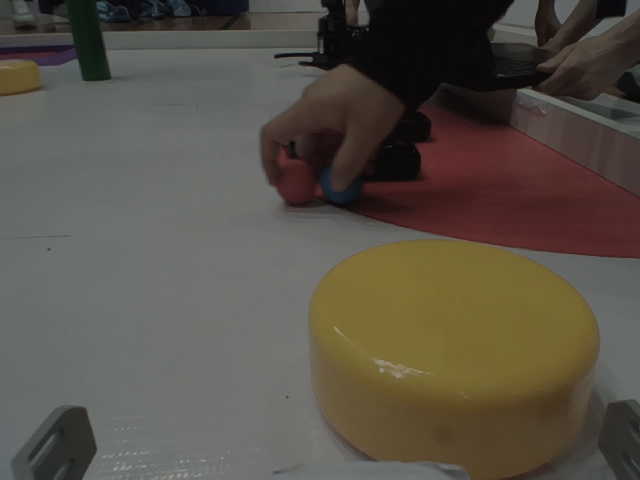black: (363, 124, 433, 179)
blue: (321, 141, 363, 207)
kuang: (1, 32, 76, 71)
red: (259, 145, 314, 218)
yellow: (292, 225, 613, 480), (1, 53, 46, 98)
zhuzi: (59, 1, 117, 83)
